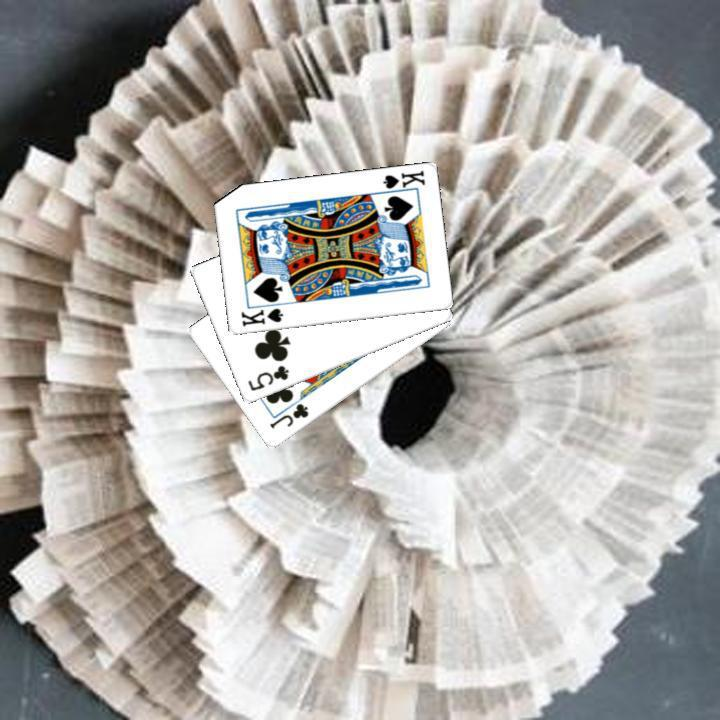5: (243, 361, 291, 394)
J: (265, 399, 311, 431)
K: (375, 166, 426, 196), (236, 304, 285, 329)
